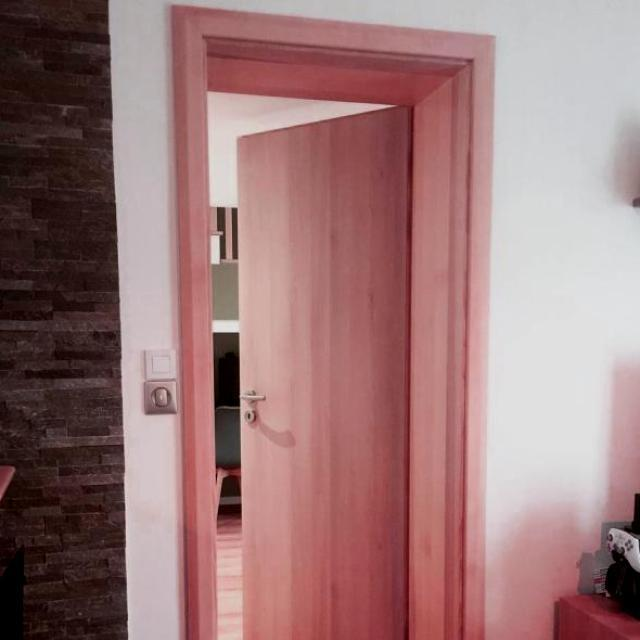door: (235, 103, 412, 638)
